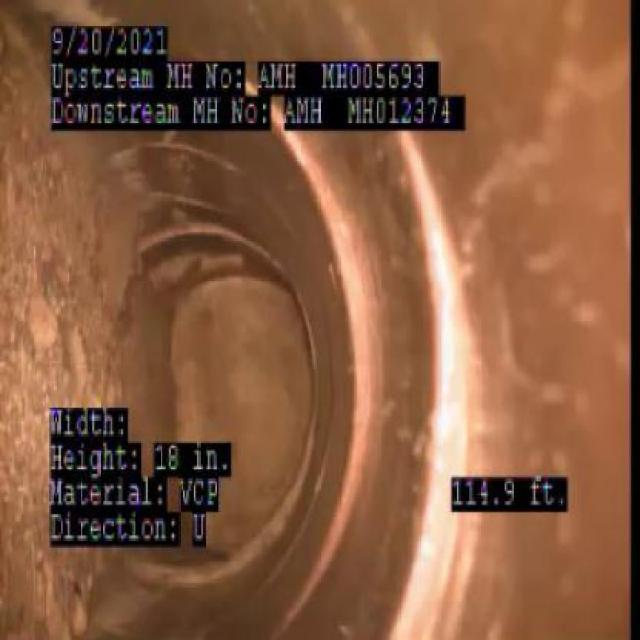Joint offset: (321, 189, 397, 522)
